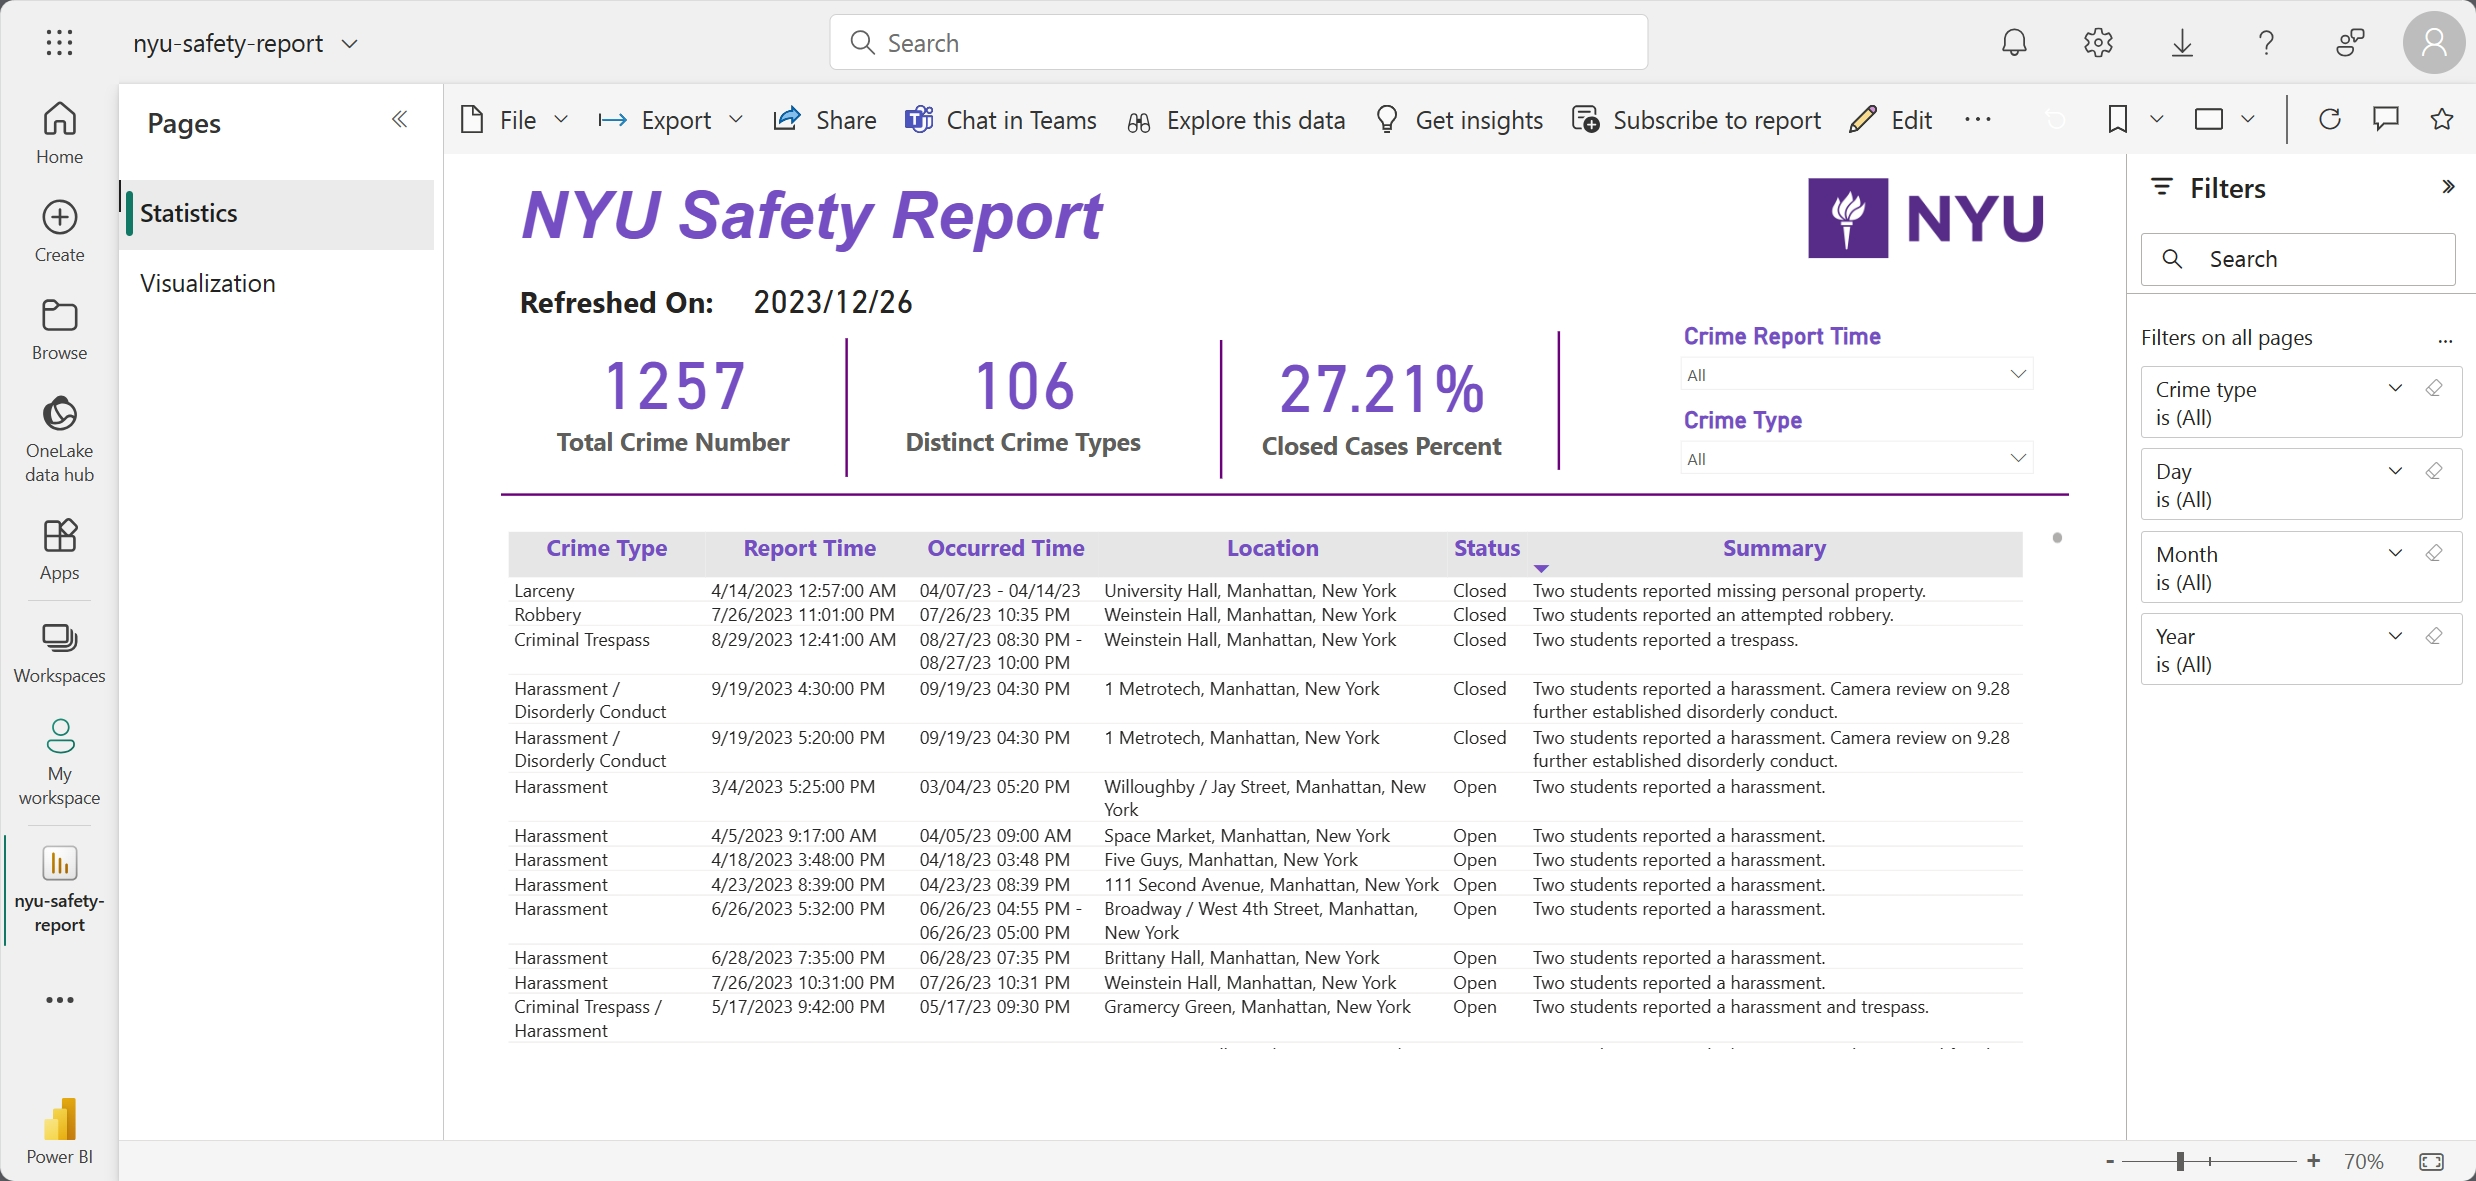

The page's visual inventory and layout, read from the dashboard file:
{"tool":"powerbi","page":{"name":"Statistics","canvas":[1280,720],"ordinal":0},"visuals":[{"type":"textbox","box":[10,0,1035,75],"z":0},{"type":"image","box":[1045,0,235,75],"z":1000},{"type":"cardVisual","fields":{"Data":["TimeTable.TimeTable"]},"box":[188.3,66.3,175,68.3],"z":2000},{"type":"textbox","box":[10,84.6,178.3,45],"z":3000},{"type":"shape","box":[0,250,1280,26.7],"z":4000},{"type":"textbox","box":[0,570,1280,150],"z":5000},{"type":"tableEx","fields":{"Values":["complete_crime.Type","complete_crime.cleaned_report_time","complete_crime.Occurred","complete_crime.Location","complete_crime.Status","complete_crime.Summary"]},"box":[0,288.3,1280,431.7],"z":6000},{"type":"slicer","fields":{"Values":["complete_crime.cleaned_report_time.Variation.Date Hierarchy.Year","complete_crime.cleaned_report_time.Variation.Date Hierarchy.Month","complete_crime.cleaned_report_time.Variation.Date Hierarchy.Day"]},"box":[953.3,116.7,308.3,65],"z":7000},{"type":"slicer","fields":{"Values":["complete_crime.Type"]},"box":[953.3,185,308.3,65],"z":8000},{"type":"card","fields":{"Values":["complete_crime.DistinctCrimeType"]},"box":[325,123.3,203.3,115],"z":9000},{"type":"card","fields":{"Values":["complete_crime.TotalCrimeNumber"]},"box":[38.3,123.3,203.3,115],"z":10000},{"type":"card","fields":{"Values":["complete_crime.ClosedCasesPercentage"]},"box":[593.3,125,251.7,115],"z":11000},{"type":"shape","box":[276.7,135,10,113.3],"z":12000},{"type":"shape","box":[583.3,136.7,10,113.3],"z":13000},{"type":"shape","box":[858.3,130,10,113.3],"z":14000}]}

Visuals, with their boxes on the page's 1280x720 design canvas (x1, y1, x2, y2). These are canvas units, not pixel positions in the 2476x1181 screenshot, which may show the page scaled, cropped or inside an application window:
textbox: 10:0:1045:75
image: 1045:0:1280:75
cardVisual - TimeTable.TimeTable: 188:66:363:135
textbox: 10:85:188:130
shape: 0:250:1280:277
textbox: 0:570:1280:720
tableEx - complete_crime.Type x complete_crime.cleaned_report_time: 0:288:1280:720
slicer - complete_crime.cleaned_report_time.Variation.Date Hierarchy.Year x complete_crime.cleaned_report_time.Variation.Date Hierarchy.Month: 953:117:1262:182
slicer - complete_crime.Type: 953:185:1262:250
card - complete_crime.DistinctCrimeType: 325:123:528:238
card - complete_crime.TotalCrimeNumber: 38:123:242:238
card - complete_crime.ClosedCasesPercentage: 593:125:845:240
shape: 277:135:287:248
shape: 583:137:593:250
shape: 858:130:868:243
